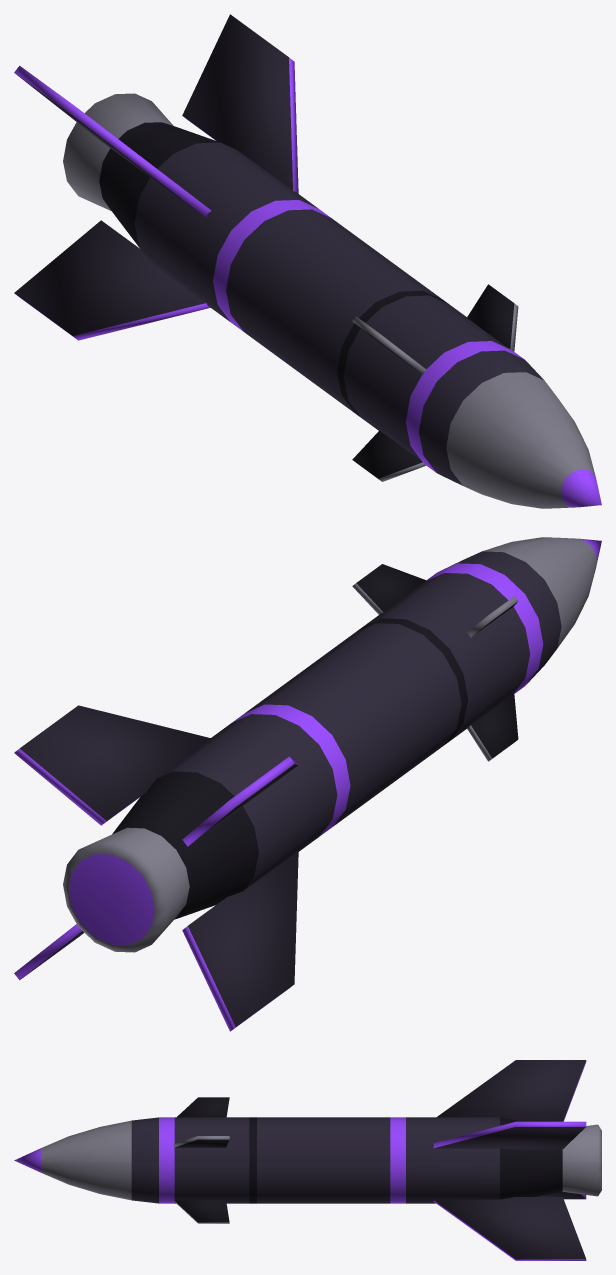
The model's file is missile.fbx.
The picture shows the model from 3 angles, top to bottom: view 1: azimuth 30°, elevation 25°; view 2: azimuth 150°, elevation 25°; view 3: azimuth 270°, elevation 25°; orthographic projection. The views are drawn at different scales.
Parts seen in each view (by area): view 1: missile; view 2: missile; view 3: missile.
Boxes of the visible parts, x1=… form: missile: x1=14, y1=14, x2=601, y2=508; missile: x1=14, y1=537, x2=601, y2=1031; missile: x1=14, y1=1060, x2=601, y2=1260.
Size of the model in its own units: 0.1959 by 0.1959 by 0.75.
